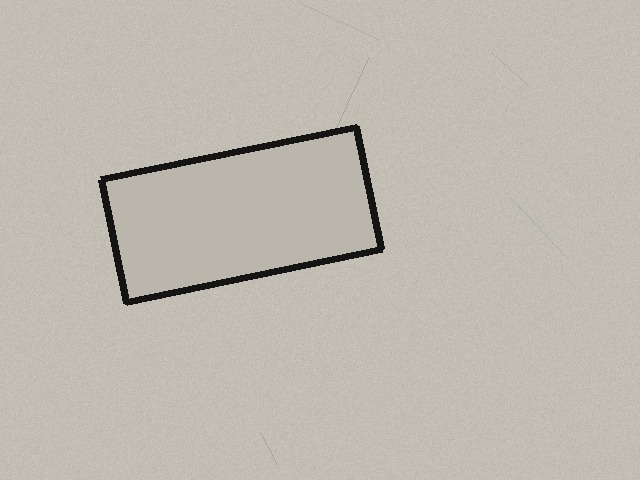parking_area: (101, 127, 381, 302)
